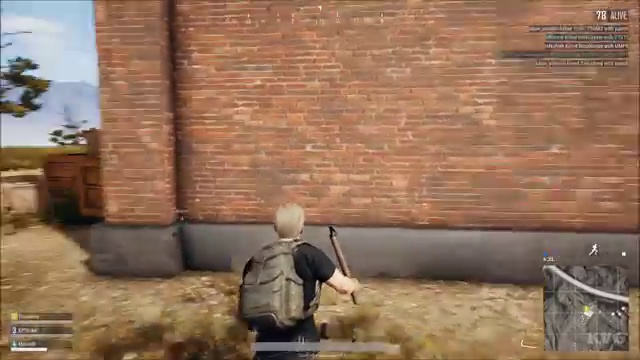Player: (214, 196, 380, 312)
